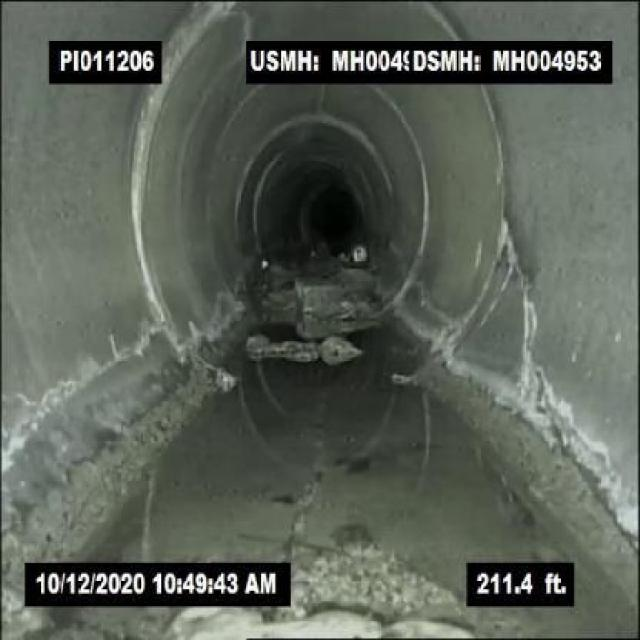Crack: (500, 240, 546, 406), (280, 443, 334, 563)
Debris: (245, 330, 362, 368)
Obstacle: (150, 606, 484, 639)
